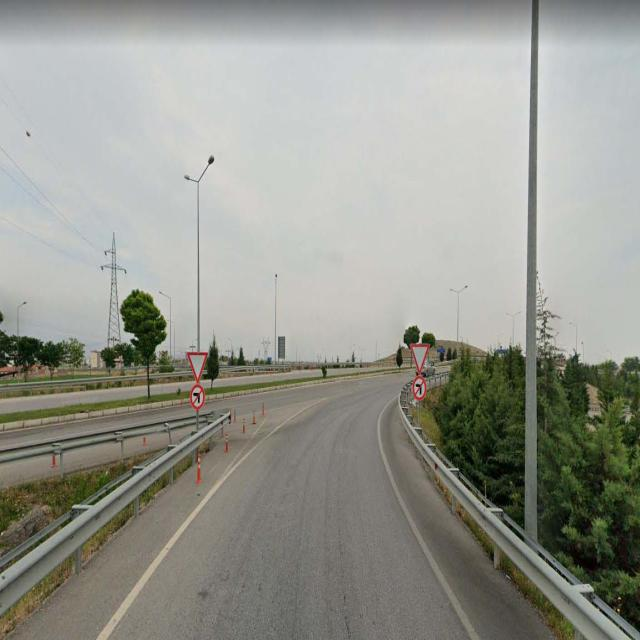soladonulmez: (192, 384, 204, 409), (415, 378, 426, 398)
